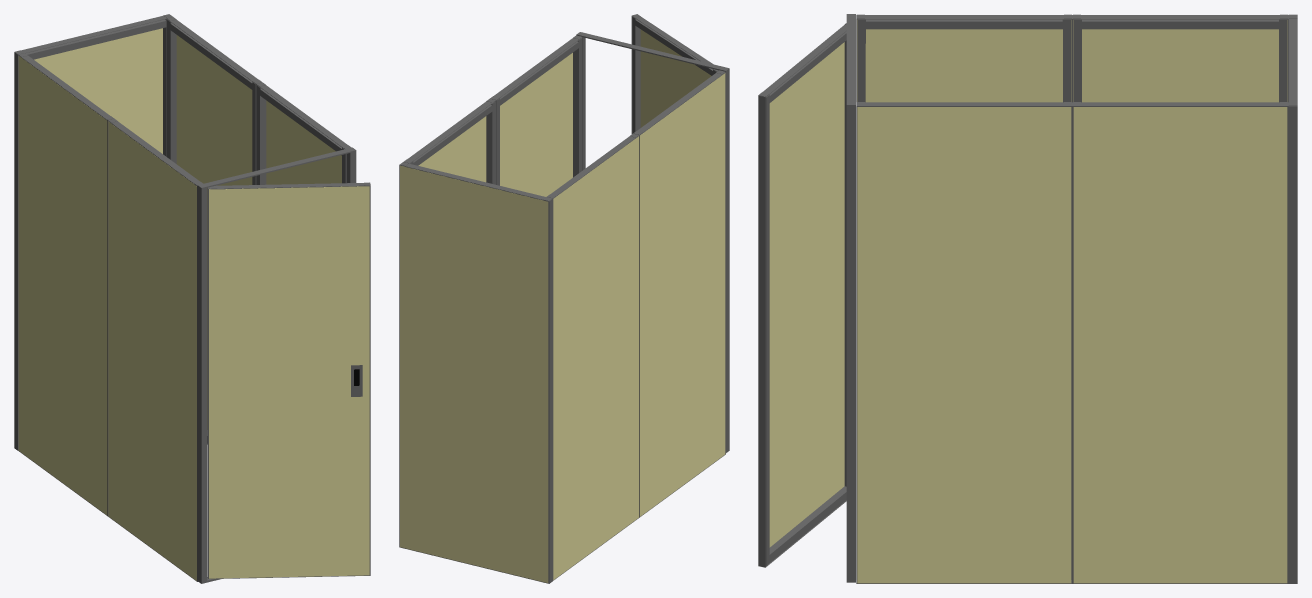
The model's file is Storage Double.glb.
The picture shows the model from 3 angles, left to right: view 1: azimuth 30°, elevation 25°; view 2: azimuth 150°, elevation 25°; view 3: azimuth 270°, elevation 25°; orthographic projection. The views are drawn at different scales.
Parts seen in each view (by area): view 1: Door Full Panel.001, Standard 38.006, Standard 38.003, Standard 38.002, Standard 38.011, Standard 38.005; view 2: Standard 38.002, Standard 38.003, Standard 38.006, Standard 38.005, Door Full Panel.001, Standard 38.011; view 3: Standard 38.005, Standard 38.011, Door Full Panel.001, Standard 38.006, Standard 38.003, Standard 38.002.
Boxes of the visible parts, bbox=[...] form: Door Full Panel.001: bbox=[197, 147, 370, 583]; Standard 38.006: bbox=[18, 53, 113, 516]; Standard 38.003: bbox=[108, 118, 203, 581]; Standard 38.002: bbox=[14, 14, 172, 450]; Standard 38.011: bbox=[166, 17, 262, 444]; Standard 38.005: bbox=[256, 82, 351, 184]; Standard 38.002: bbox=[399, 162, 552, 583]; Standard 38.003: bbox=[633, 70, 725, 517]; Standard 38.006: bbox=[547, 134, 639, 580]; Standard 38.005: bbox=[490, 35, 582, 196]; Door Full Panel.001: bbox=[576, 14, 729, 452]; Standard 38.011: bbox=[403, 98, 495, 184]; Standard 38.005: bbox=[856, 102, 1072, 583]; Standard 38.011: bbox=[1072, 102, 1288, 583]; Door Full Panel.001: bbox=[758, 14, 855, 582]; Standard 38.006: bbox=[1072, 14, 1288, 102]; Standard 38.003: bbox=[856, 14, 1072, 102]; Standard 38.002: bbox=[1288, 14, 1297, 583].
Size of the model in its own units: 0.969 by 2.37 by 2.42.
